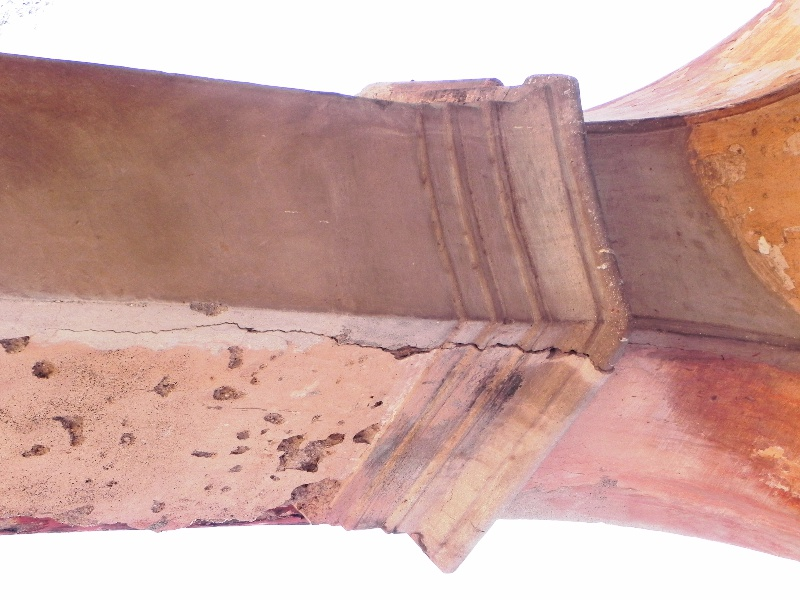Crack: (50, 315, 624, 382)
Spalling: (257, 480, 342, 528), (267, 425, 347, 475), (60, 410, 93, 450), (350, 420, 391, 449)
